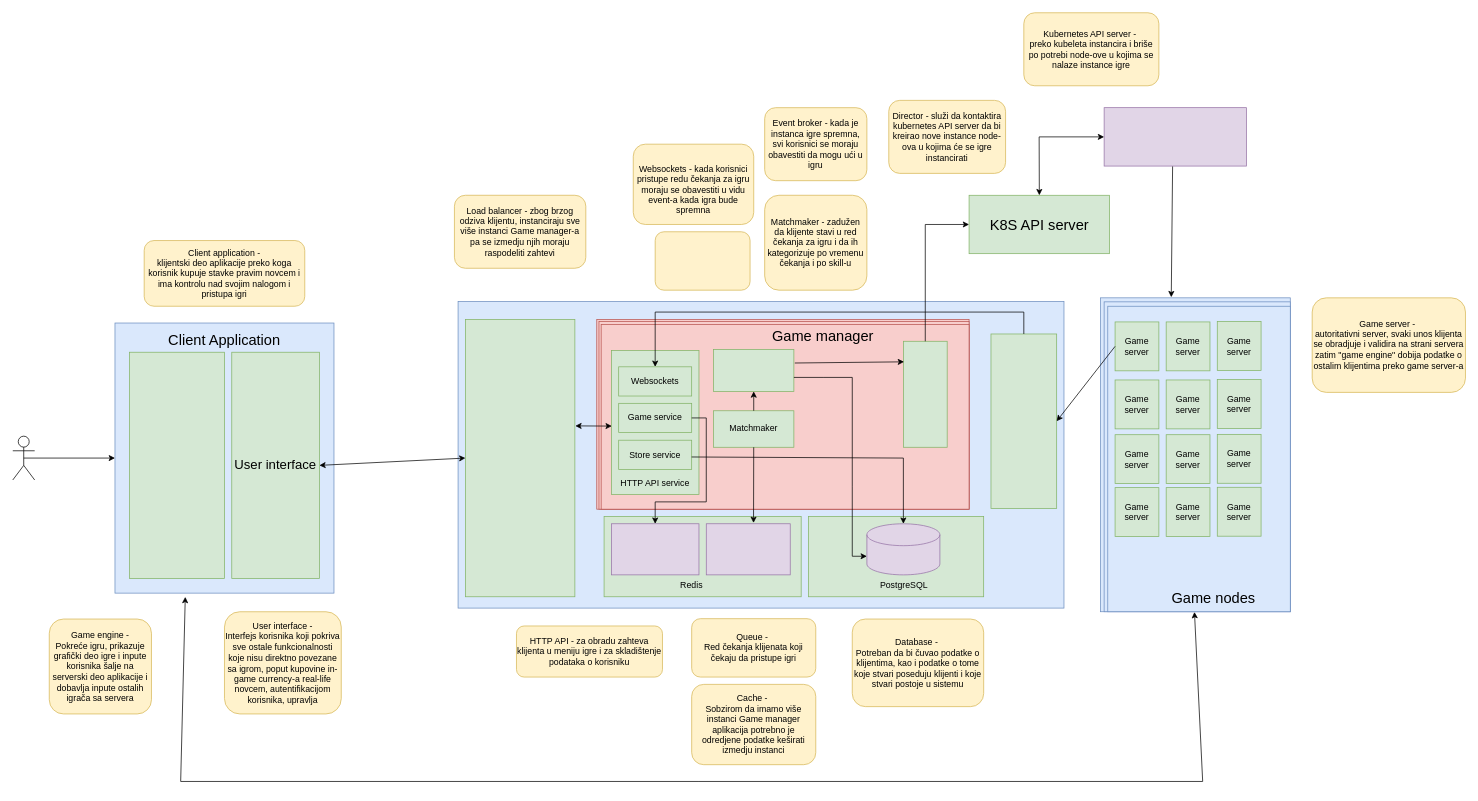
Image size: 1478x801. Some labels were removed from this diagram. The centre of each missing label's shape, as x and y in pixels:
"Cache" belongs at point (655, 549).
"Database" belongs at point (903, 549).
"Director" belongs at point (925, 394).
"Event broker" belongs at point (1023, 420).
"Game engine" belongs at point (176, 465).
"Kubelet" belongs at point (1174, 136).
"Load balancer (Ngnix)" belongs at point (520, 458).
"Queue" belongs at point (748, 549).
"Session manager" belongs at point (753, 370).
"Session manager - Služi da kreira, kešira i briše sesije igre" belongs at point (702, 260).
"User" belongs at point (23, 457).
